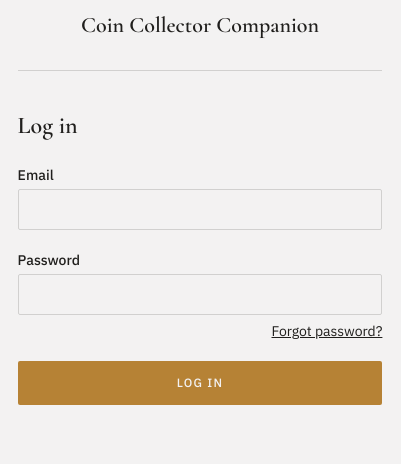
Test: LoginPage › criterion 4: surfaces a rejected submission via lib/form-errors, not an unhandled exception › never treats a non-400 status as field-level, even when the message text coincidentally starts with a field name
Type "user@example.com" into the field with id "email" at (200,210), box x1=18 y1=189 x2=382 y2=230
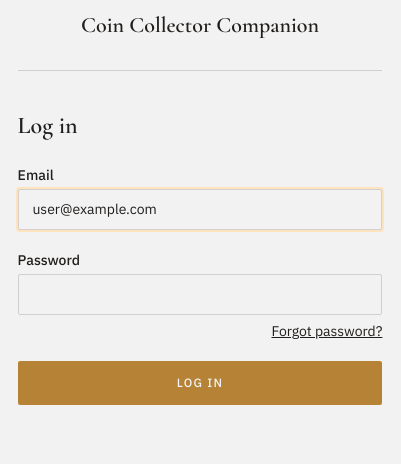
Type "password123" into the password field labelled "Password" at (200,294), box x1=18 y1=274 x2=382 y2=315
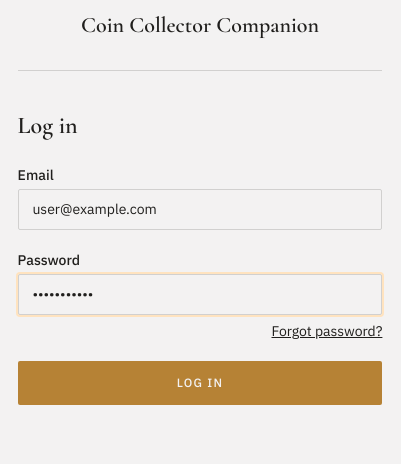
Click the button with test id "login-submit" at (200,383), box x1=18 y1=361 x2=382 y2=405
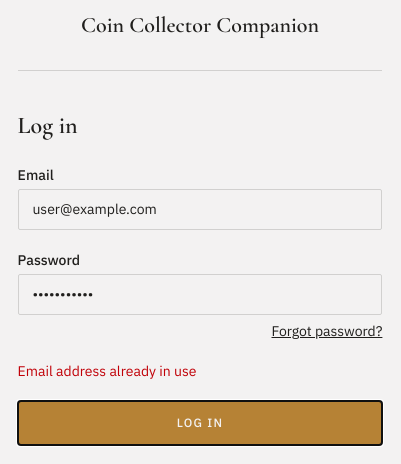
Check: the text with test id "login-form-error" reads "Email address already in use", box x1=18 y1=362 x2=196 y2=380
